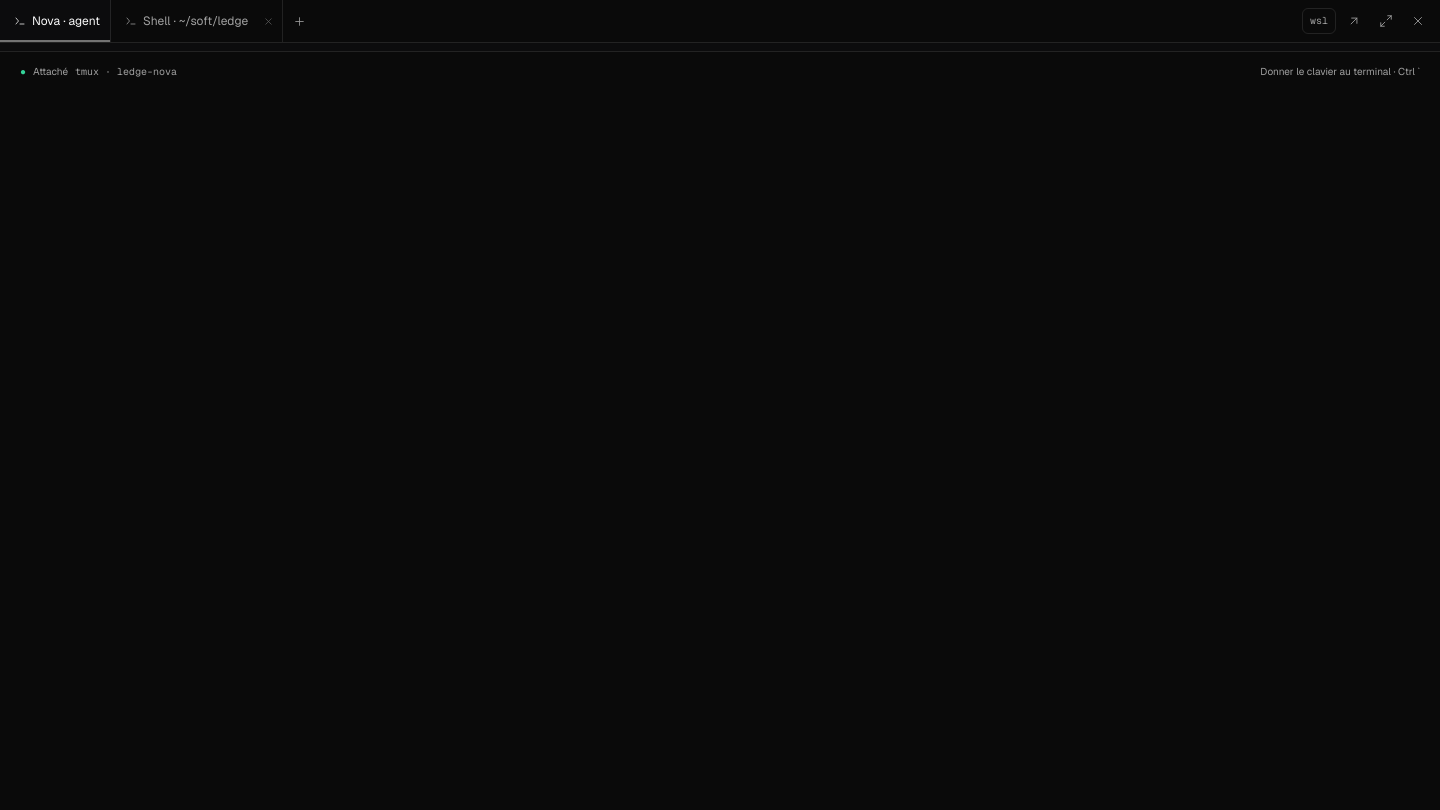
Test case: a folder that cannot open says so in its tab
Click the tab "Shell · ~/soft/ledge": (184, 21) [111, 0, 258, 42]
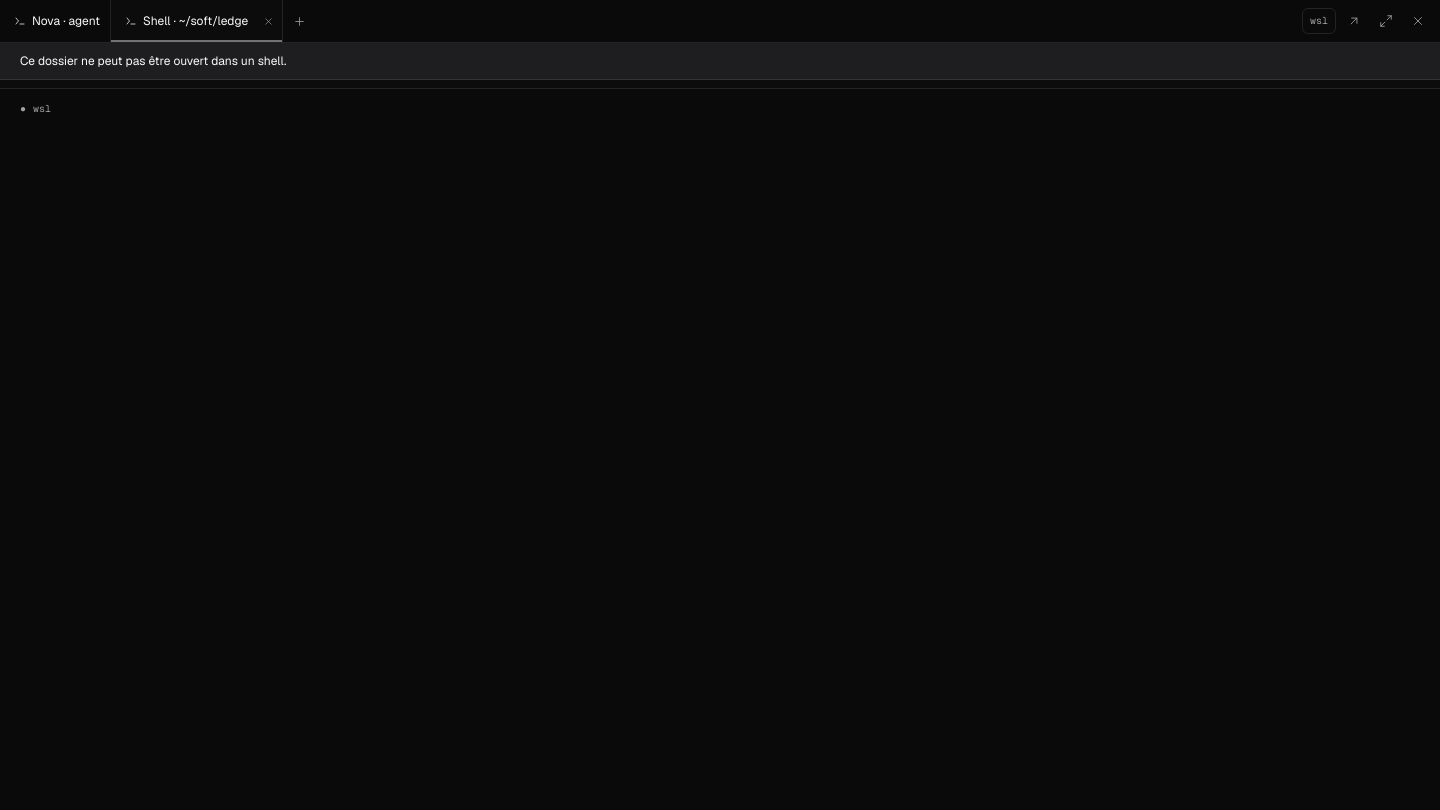
expect the text "Ce dossier ne peut pas être ouvert dans un shell." is shown: met, box [20, 53, 286, 69]
